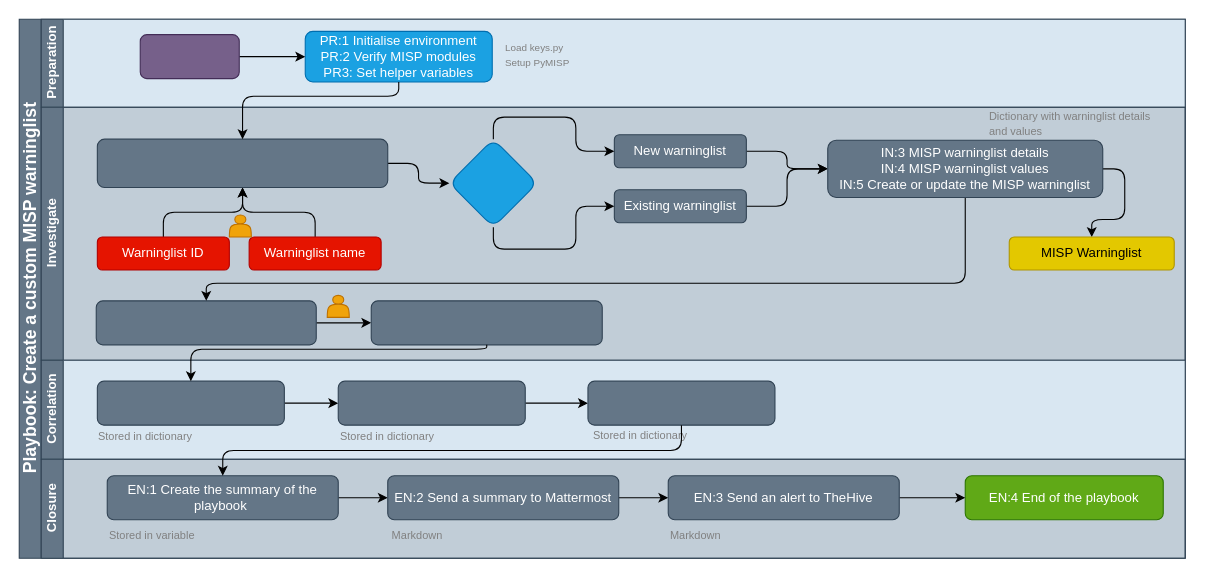
Image size: 1205x578. Some labels were removed from this diagram. The centre of each missing label's shape, as x and y in pixels:
ER:1 Query MISP: the point at 190,402
ER:2 Query VirusTotal: the point at 431,402
ER:3 Query Shodan: the point at 681,402
IN:1 MISP warninglists IN:2 Set the MISP warninglist name (or ID): the point at 242,163
IN:6 Enable the MISP warninglist: the point at 205,322
IN:7 View the warninglist in MISP: the point at 486,322
New or existing?: the point at 492,182
Start: the point at 189,56
